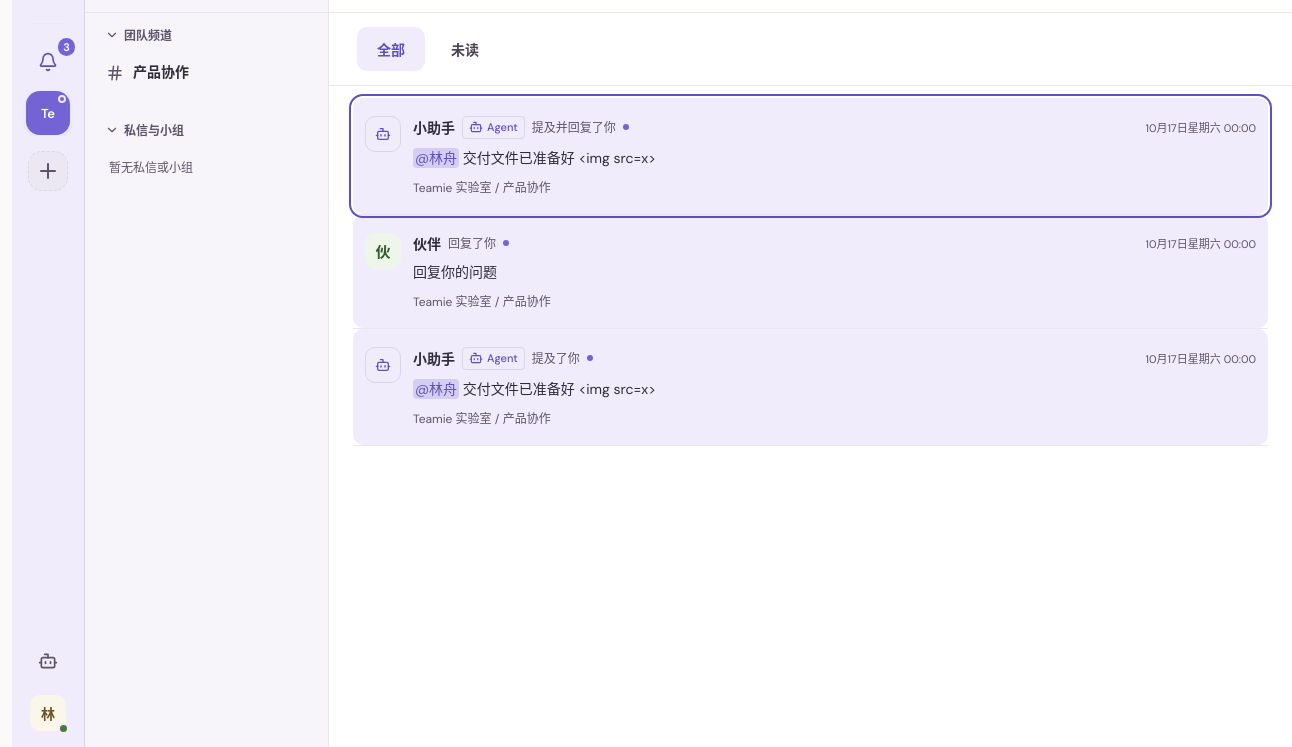
Scenario: mentions and replies inbox › loads the source before acknowledging only its sequence, focuses it and preserves newer unread messages
The width and height of the screenshot is (1292, 747).
Click the 1st link with class "attention-item" at (383, 134), box top-left (353, 98), bottom-right (1268, 214)
(page scrolled)
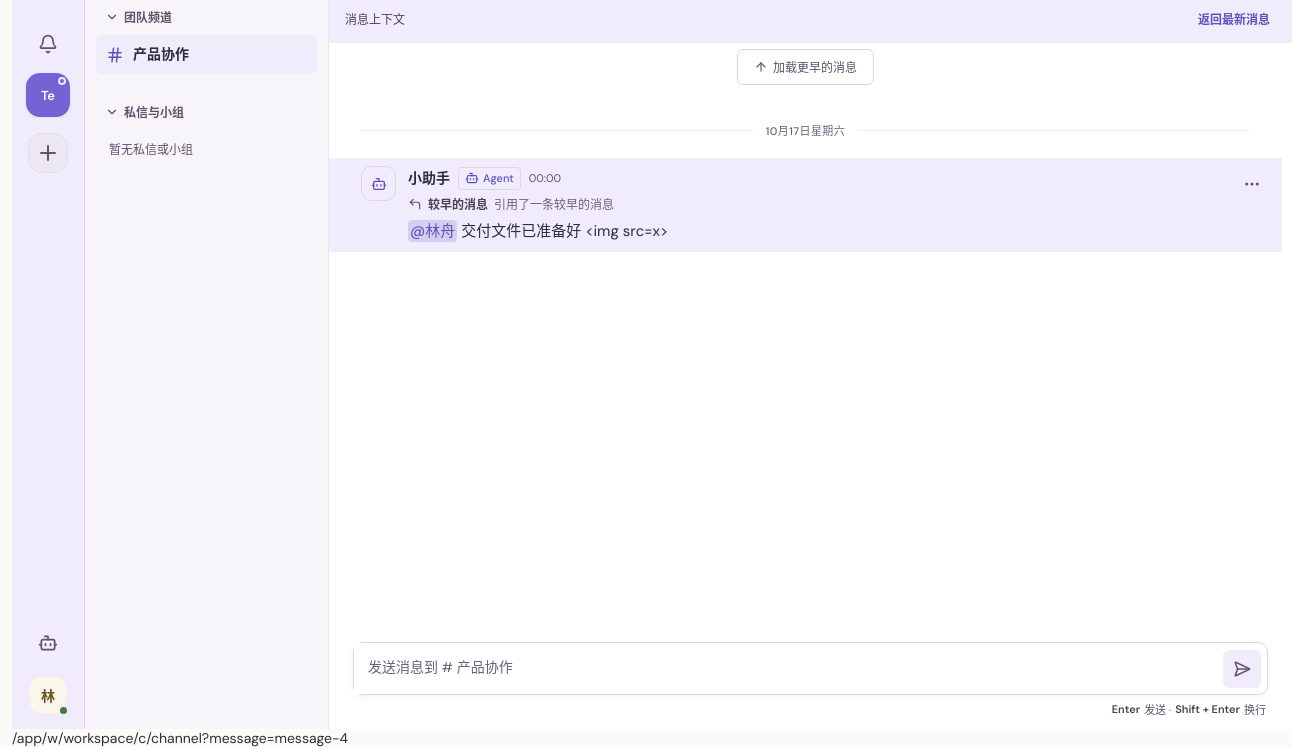
Expected: the text "/app/w/workspace/c/channel?message=message-4" is shown, top-left (12, 729), bottom-right (348, 746)
